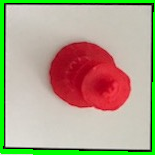Red King: (49, 37, 132, 117)
